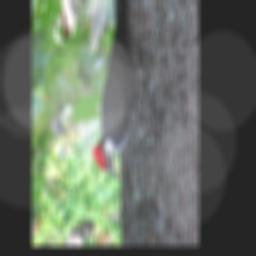Woodpecker: (91, 0, 145, 182)
